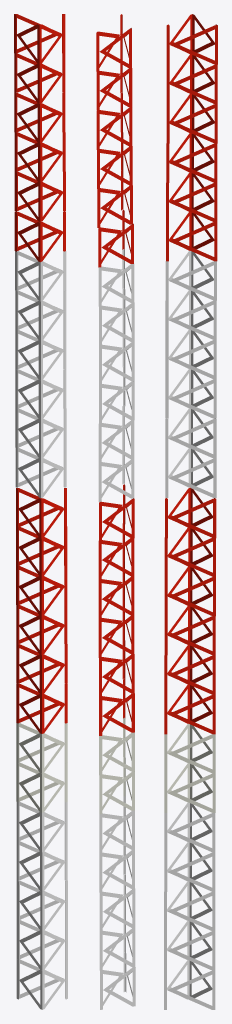
Rendered from tower.dae.
3 views of the same model, side by side, from view 1: azimuth 90°, elevation 25°; view 2: azimuth 150°, elevation 25°; view 3: azimuth 270°, elevation 25° (orthographic).
Visible parts, largest first — view 1: Componente_2 (×50); view 2: Componente_2 (×50); view 3: Componente_2 (×50).
Part boxes in pixels (x1,y1,x2,y2): Componente_2 (×50): [14, 14, 65, 1009]; Componente_2 (×50): [96, 28, 135, 1009]; Componente_2 (×50): [167, 14, 217, 1009].
Size of the model in its own units: 6.41 by 11.85 by 239.
